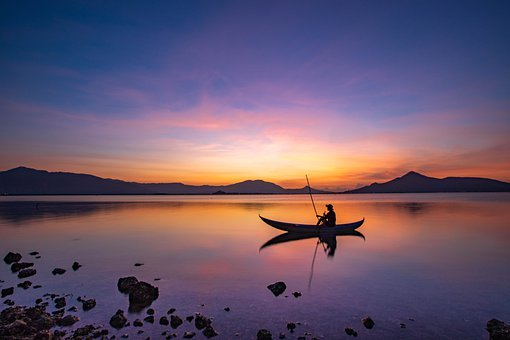lake: (15, 193, 506, 333)
sky: (6, 5, 507, 180)
